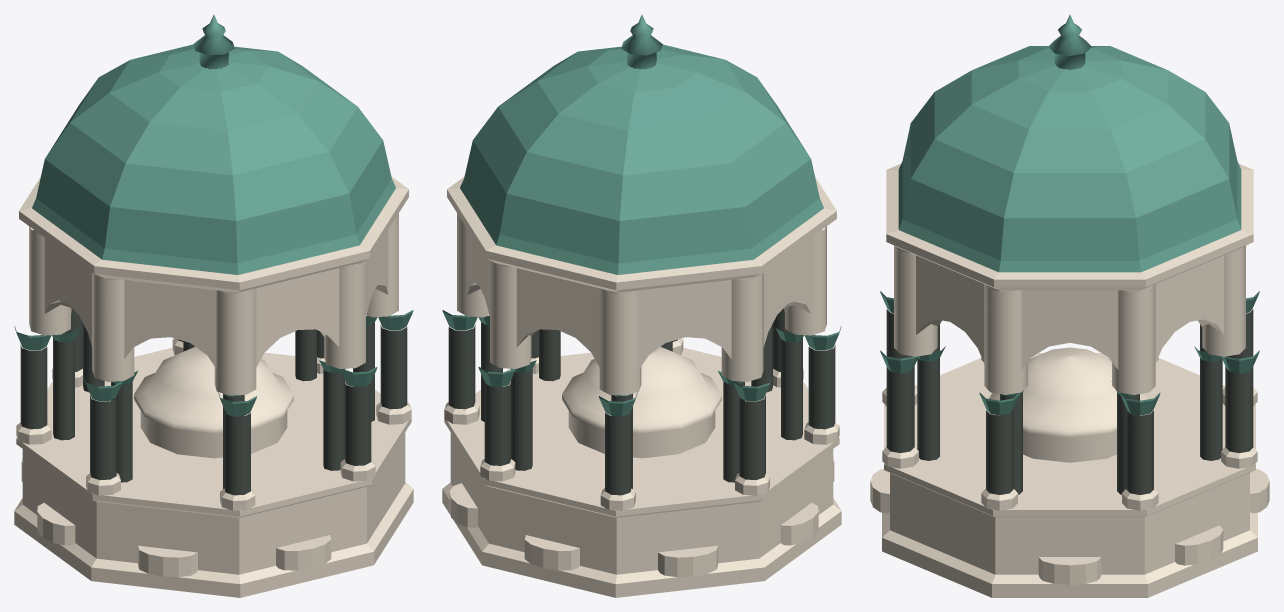
Rendered from istanbul-german-fountain.glb.
The picture shows the model from 3 angles, left to right: view 1: azimuth 30°, elevation 25°; view 2: azimuth 150°, elevation 25°; view 3: azimuth 270°, elevation 25°; orthographic projection.
Parts seen in each view (by area): view 1: German Fountain; view 2: German Fountain; view 3: German Fountain.
Boxes of the visible parts, box(x1,y1,x2,y2) form: German Fountain: box(14, 14, 413, 597); German Fountain: box(442, 14, 841, 597); German Fountain: box(870, 14, 1269, 597).
Size of the model in its own units: 9.14 by 12.75 by 9.14.
